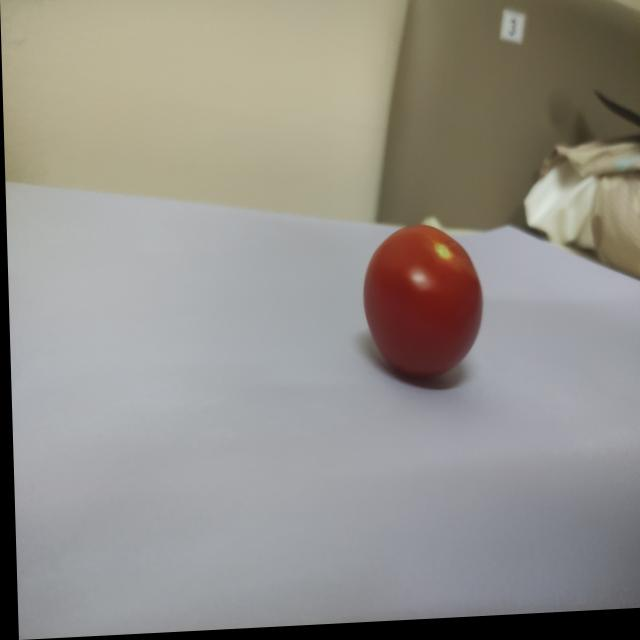kirmizi: (346, 212, 501, 394)
